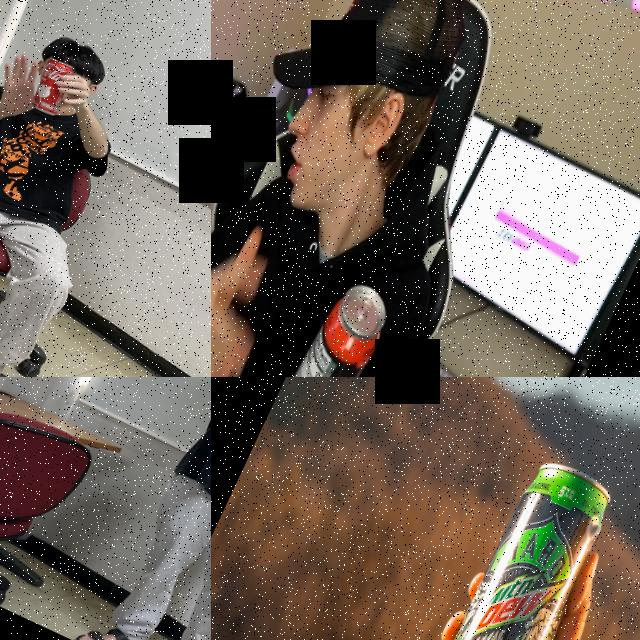can: (357, 448, 622, 640), (235, 273, 398, 377), (26, 56, 78, 118)
